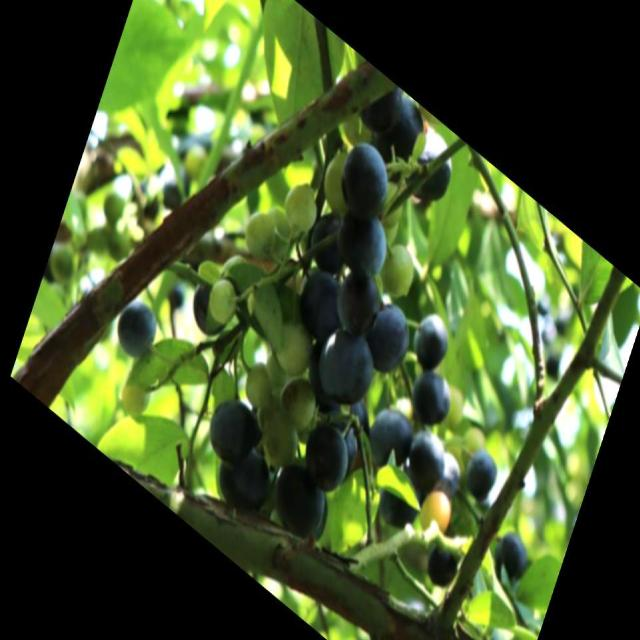blueberry: (355, 282, 420, 389), (367, 83, 435, 185), (331, 127, 396, 232), (313, 318, 380, 416), (330, 192, 397, 290), (398, 120, 462, 220), (211, 428, 276, 525), (287, 255, 350, 352), (266, 452, 331, 544), (200, 388, 262, 476), (328, 253, 385, 344), (298, 409, 355, 497), (361, 391, 417, 478), (398, 411, 451, 498), (303, 195, 357, 279), (370, 452, 424, 536), (108, 289, 162, 372), (483, 516, 535, 596), (185, 267, 233, 345), (407, 304, 455, 380), (405, 355, 453, 431), (461, 439, 499, 507), (422, 534, 462, 598), (432, 441, 470, 507)
blueberry-unripe: (268, 310, 314, 382), (377, 232, 418, 305), (254, 402, 299, 466), (256, 201, 298, 264), (280, 172, 322, 234), (280, 370, 318, 428), (242, 204, 280, 261), (240, 356, 276, 412), (205, 272, 240, 328)
